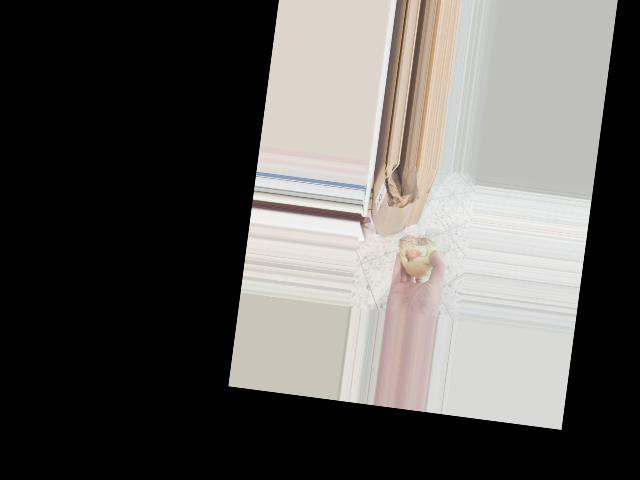onion: (394, 230, 445, 282)
